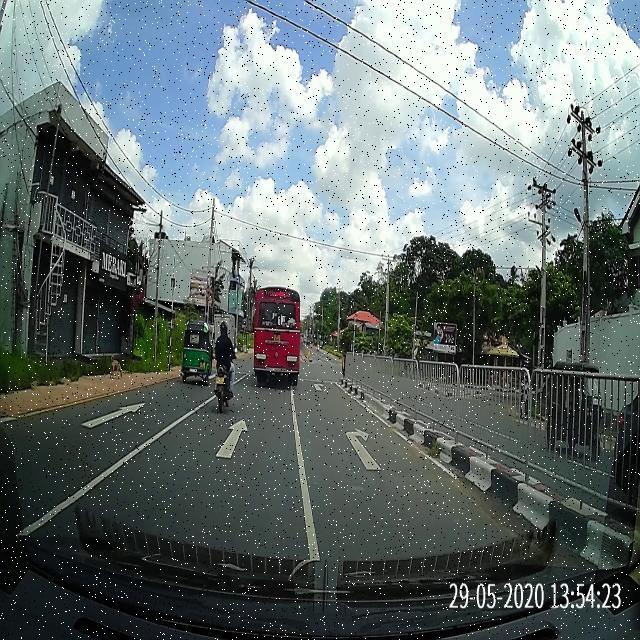forward: (113, 412, 313, 479)
